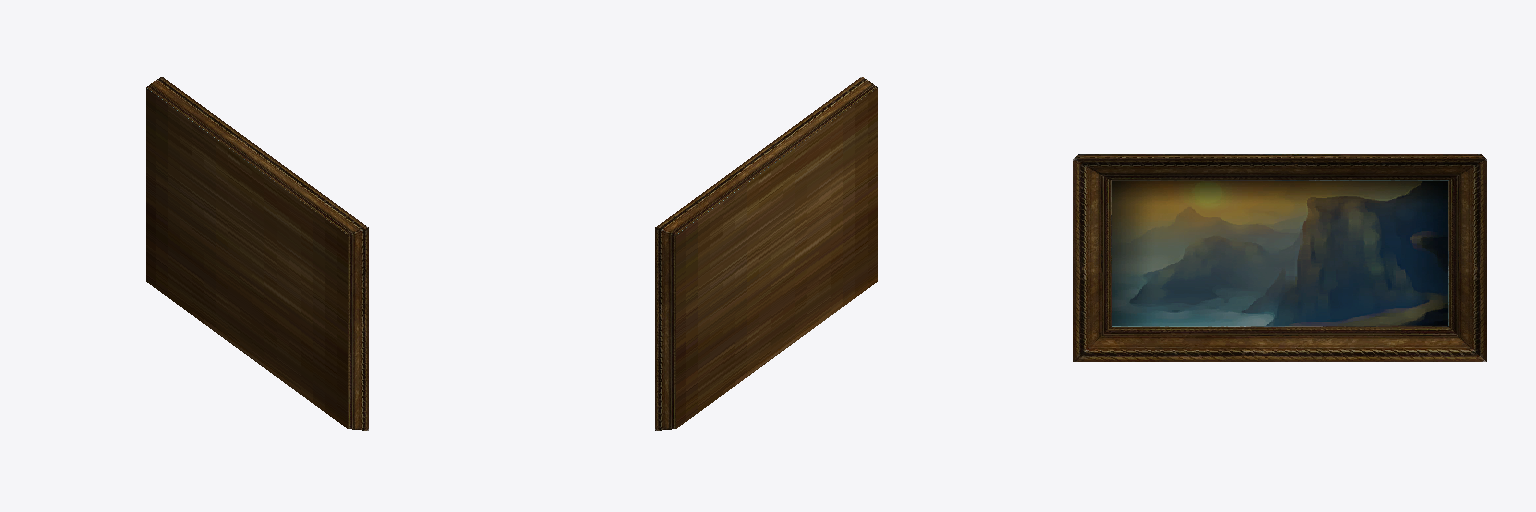
The picture shows the model from 3 angles: view 1: azimuth 30°, elevation 25°; view 2: azimuth 150°, elevation 25°; view 3: azimuth 270°, elevation 25°; orthographic projection.
Parts seen in each view (by area): view 1: object 1; view 2: object 1; view 3: object 1.
Part boxes in pixels (left/top/right/bottom): object 1: left=146, top=77, right=368, bottom=430; object 1: left=655, top=77, right=877, bottom=430; object 1: left=1073, top=154, right=1486, bottom=361.
Bounding box in the file's own units: 0.2227 × 2.34 × 4.3.
1 materials, 1 textured.